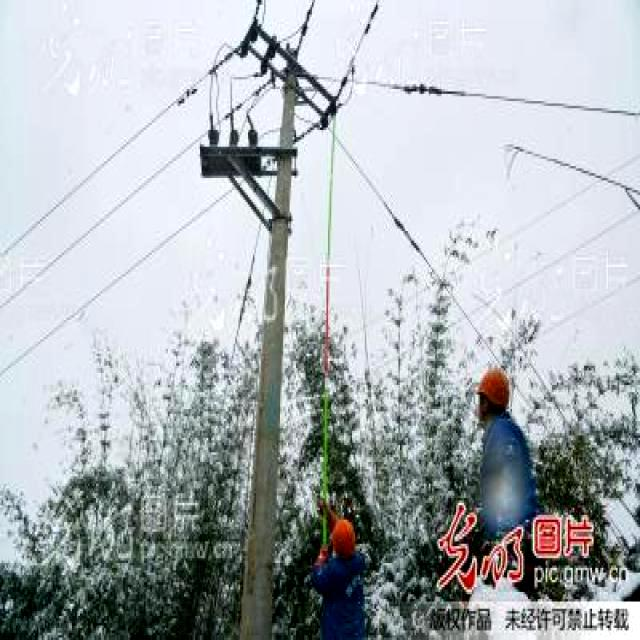hard_hat: (477, 368, 509, 407), (333, 520, 354, 558)
person: (477, 368, 536, 537), (310, 510, 366, 638)
